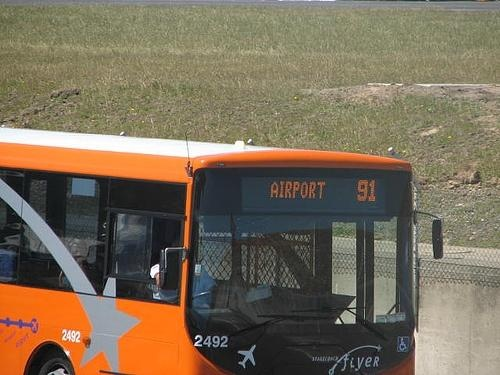bus: (3, 127, 444, 375)
